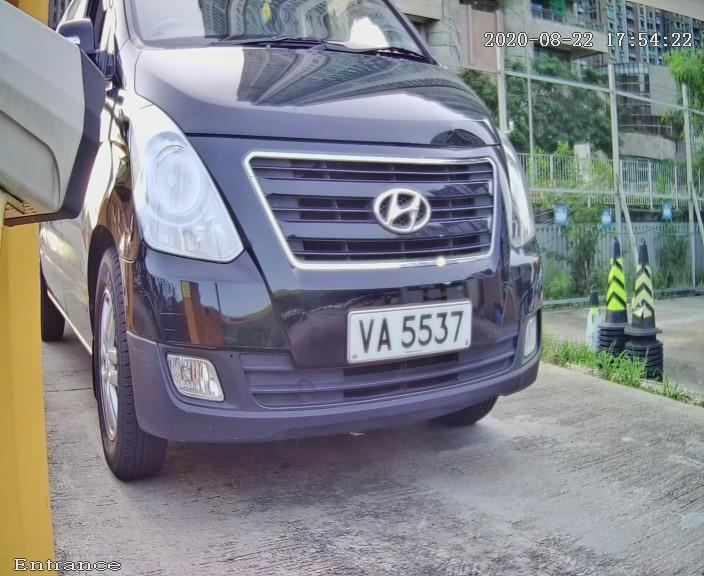Car: (38, 16, 576, 487)
License Plate: (329, 285, 495, 379)
